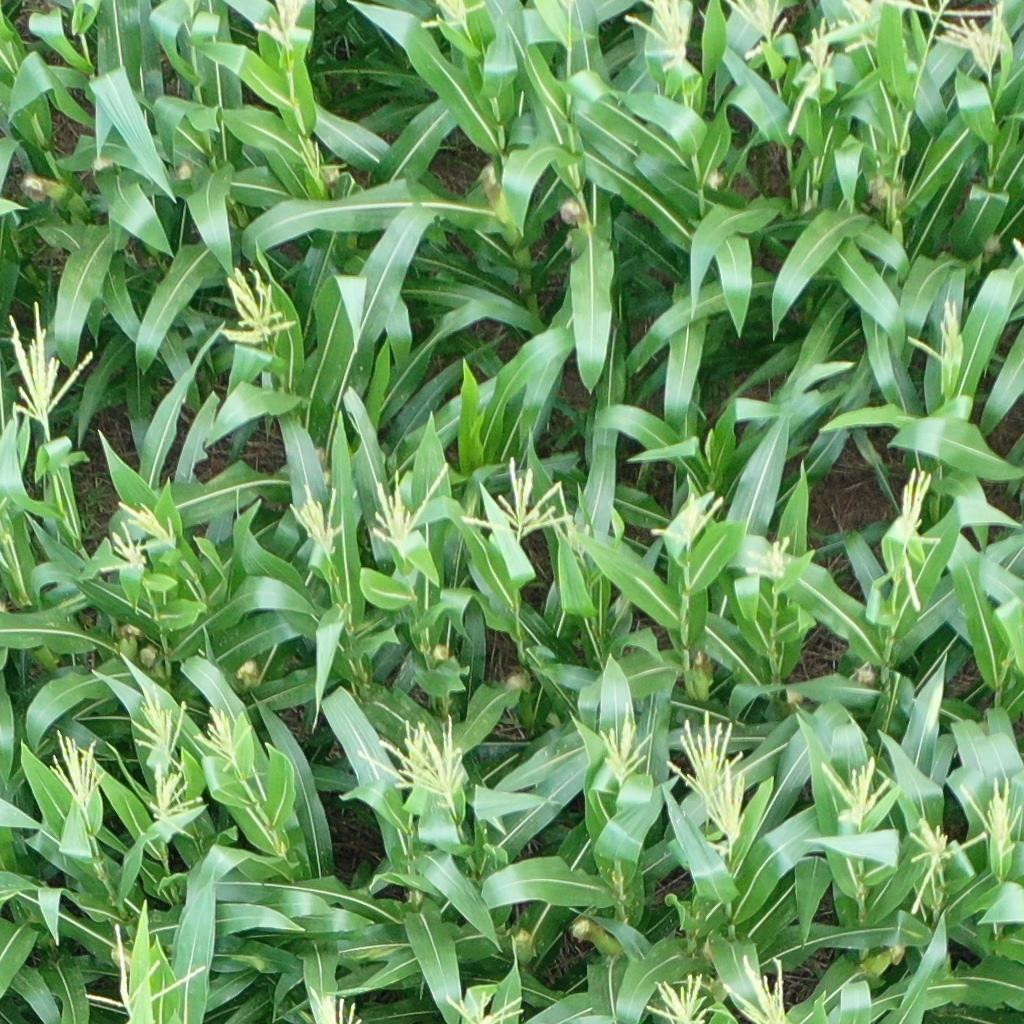Tassel: (83, 922, 207, 1013), (8, 301, 95, 425), (459, 457, 572, 537), (904, 819, 989, 915), (370, 462, 450, 548), (357, 721, 460, 786), (665, 711, 742, 794), (899, 467, 942, 615), (931, 1, 1007, 80), (786, 18, 836, 138), (220, 268, 297, 345), (403, 717, 467, 803), (956, 778, 1023, 859), (125, 683, 189, 766), (621, 1, 693, 73), (819, 758, 894, 823), (596, 702, 655, 783), (723, 952, 788, 1024), (49, 730, 106, 809), (648, 490, 725, 545), (904, 300, 965, 368), (705, 761, 747, 856), (727, 1, 789, 61), (194, 706, 250, 772), (148, 772, 202, 839), (290, 485, 343, 551), (117, 497, 178, 549), (647, 972, 707, 1023), (446, 985, 525, 1023), (553, 486, 592, 555), (254, 1, 309, 48), (98, 522, 145, 575), (837, 1, 881, 53), (309, 985, 363, 1024), (748, 538, 791, 584), (423, 1, 487, 30), (299, 134, 323, 181), (556, 1, 577, 12)
